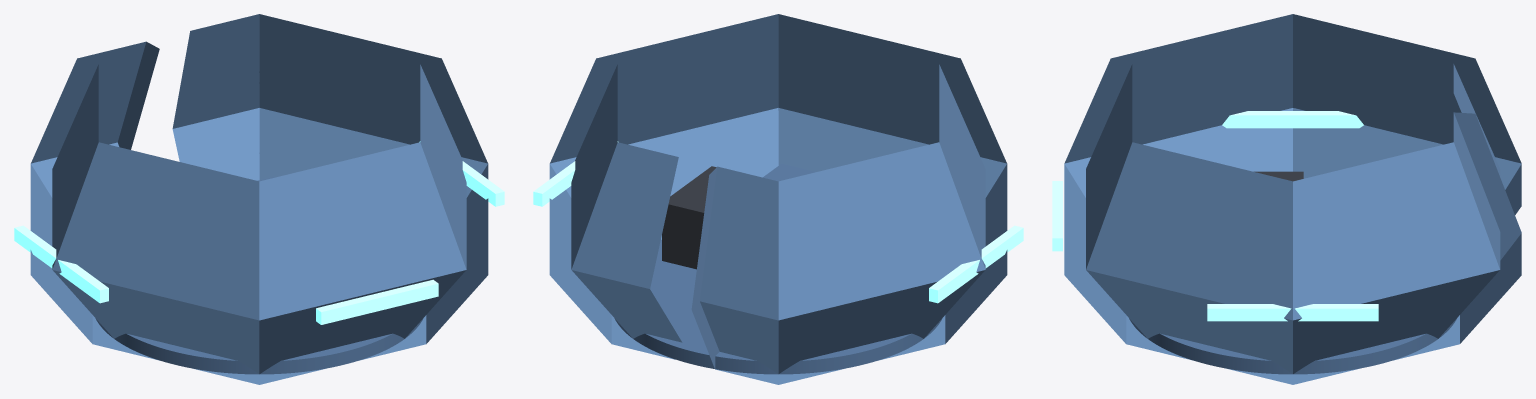
The model's file is Origin_turret.glb.
The picture shows the model from 3 angles, left to right: view 1: azimuth 30°, elevation 25°; view 2: azimuth 150°, elevation 25°; view 3: azimuth 270°, elevation 25°; orthographic projection.
Parts seen in each view (by area): view 1: Origin_Turret; view 2: Origin_Turret; view 3: Origin_Turret.
Part boxes in pixels (box(x1,y1,x2,y2)): Origin_Turret: box(14, 14, 504, 384); Origin_Turret: box(533, 14, 1023, 384); Origin_Turret: box(1052, 14, 1521, 384).
Bounding box in the file's own units: 2.96 × 1.24 × 2.63.
